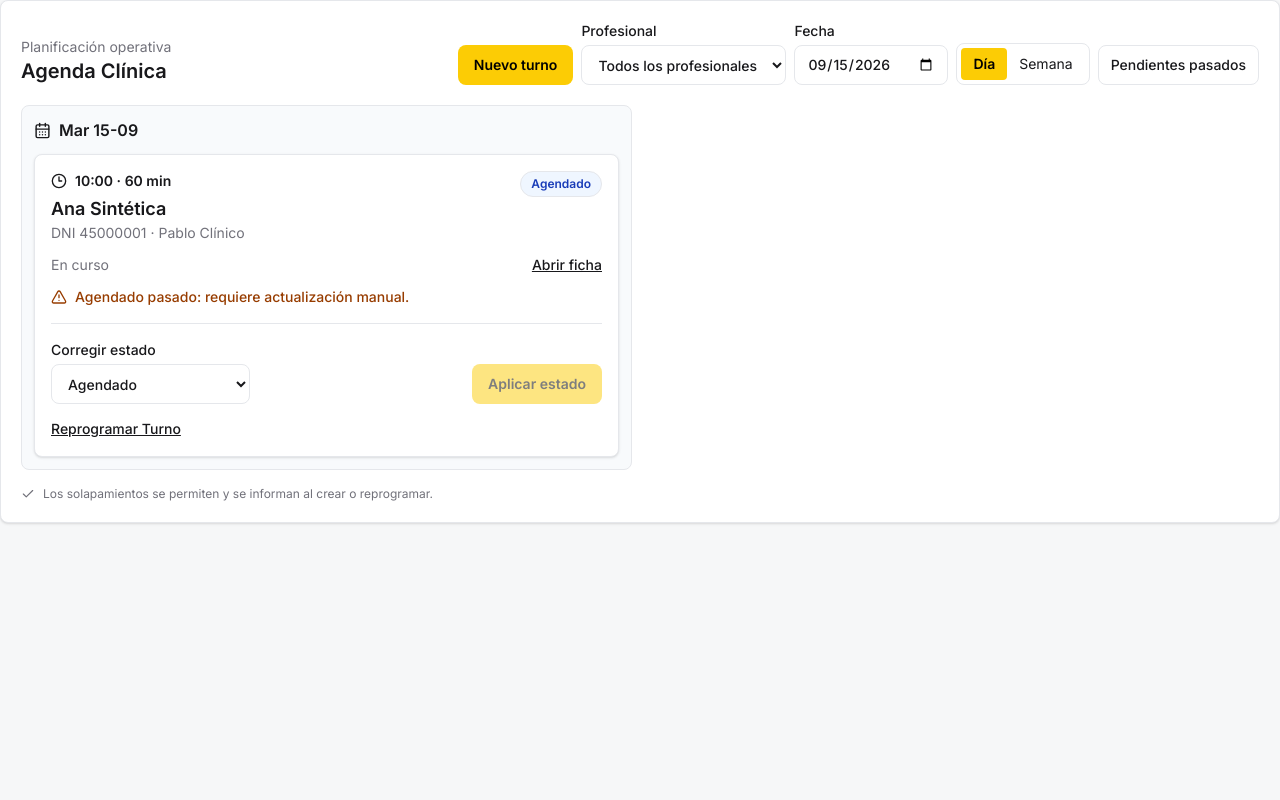
Test: requires explicit coverage before correcting a Turno to Atendido
Select "Atendido" in the dropdown named "Nuevo estado de Ana Sintética": coordinates (150, 384) [51,364,250,404]
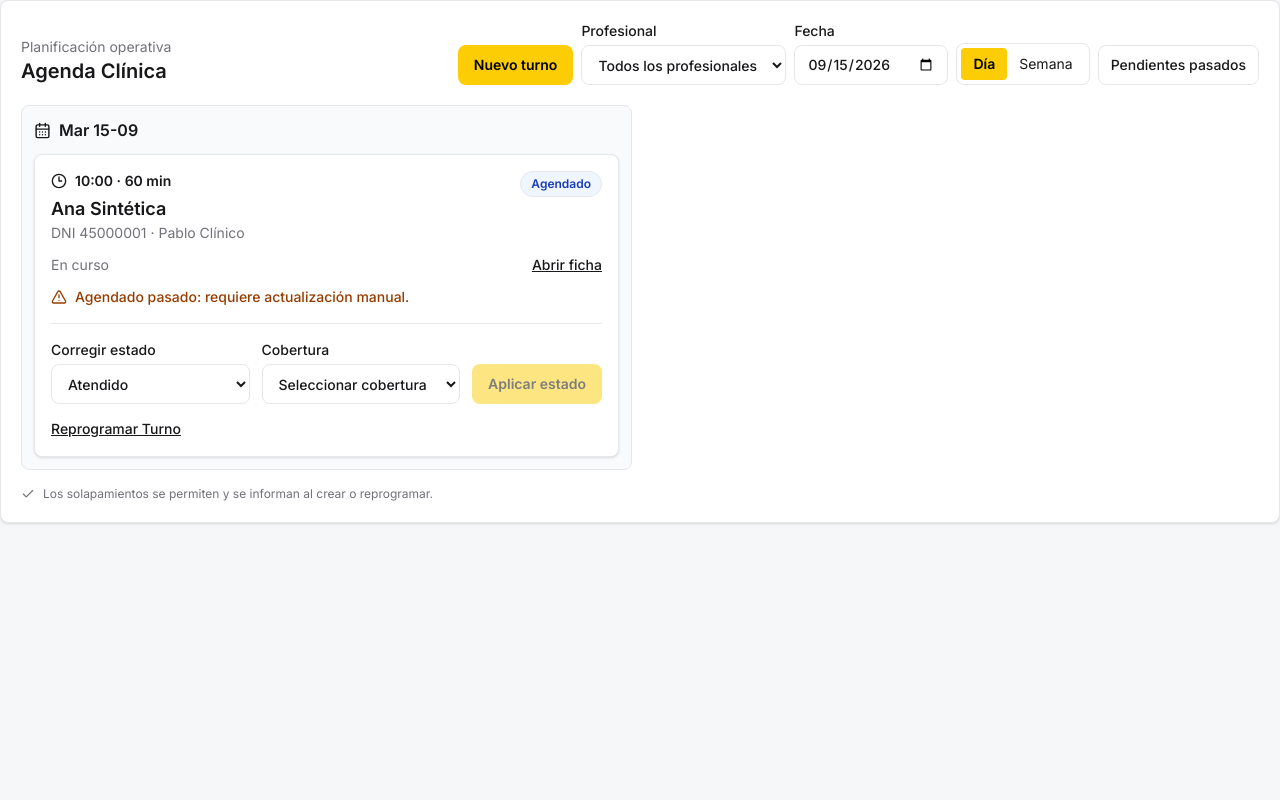
Expected: the button "Aplicar estado" is disabled, [472,364,602,404]
Select "Particular" in the dropdown named "Cobertura de Ana Sintética": coordinates (361, 384) [262,364,460,404]
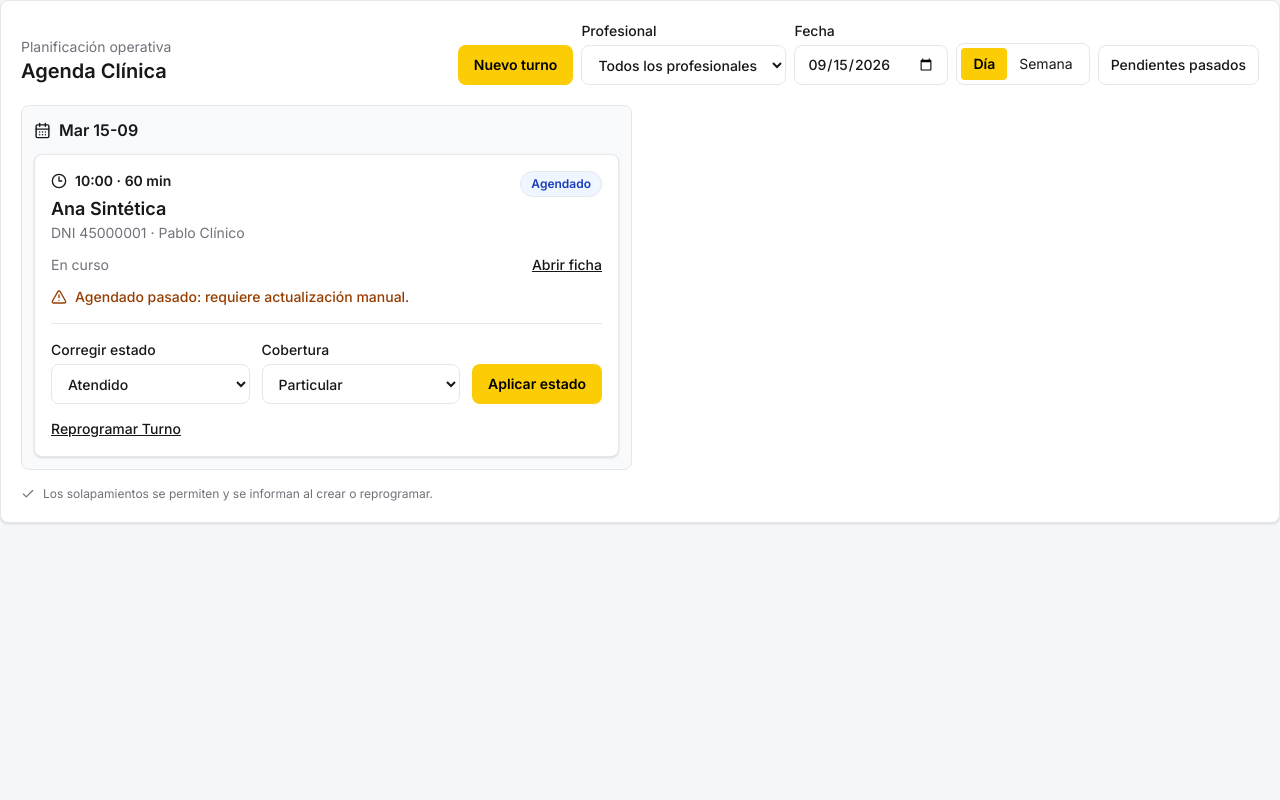
Now the button "Aplicar estado" is enabled
Click the button "Aplicar estado": coordinates (537, 384) [472,364,602,404]
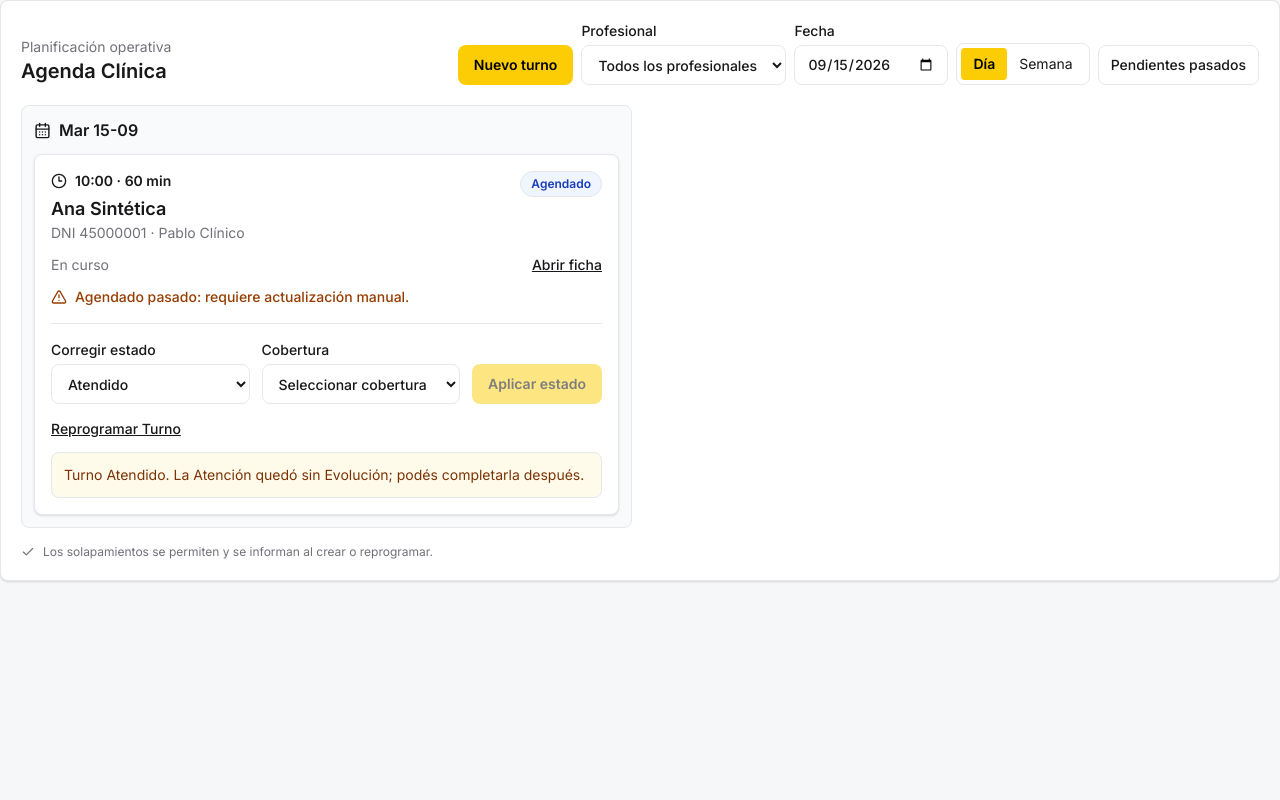
Now the text "La Atención quedó sin Evolución" is shown, box [64,466,584,483]
